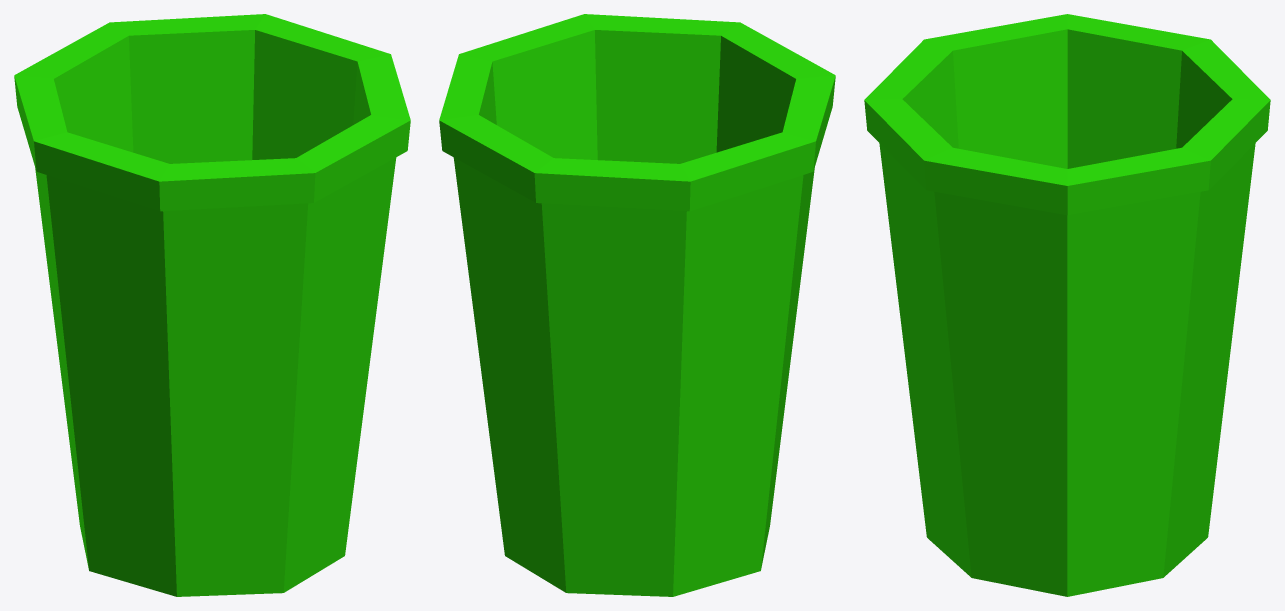
Rendered from Vaso.fbx.
The picture shows the model from 3 angles, left to right: view 1: azimuth 30°, elevation 25°; view 2: azimuth 150°, elevation 25°; view 3: azimuth 270°, elevation 25°; orthographic projection.
Visible parts, largest first — view 1: vaso4; view 2: vaso4; view 3: vaso4.
Part boxes in pixels (x1,y1,x2,y2): vaso4: (14, 14, 410, 596); vaso4: (439, 14, 835, 596); vaso4: (864, 14, 1270, 596).
Bounding box in the file's own units: 0.3654 × 0.4343 × 0.3648.
